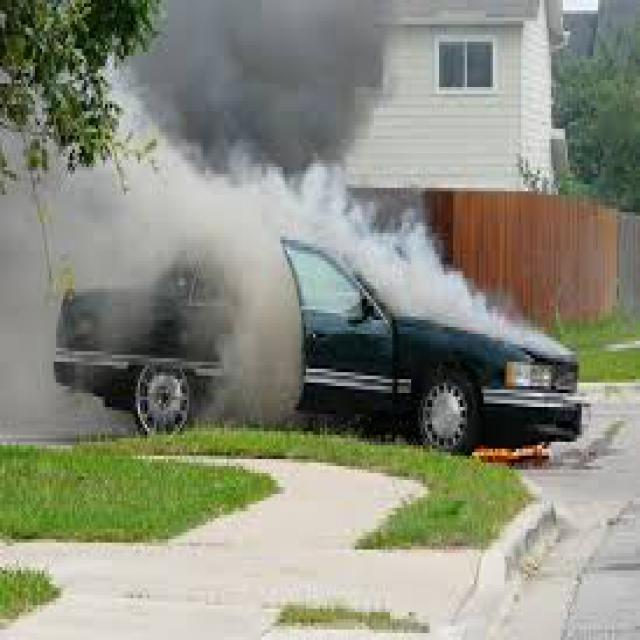smoke: (2, 156, 549, 428)
